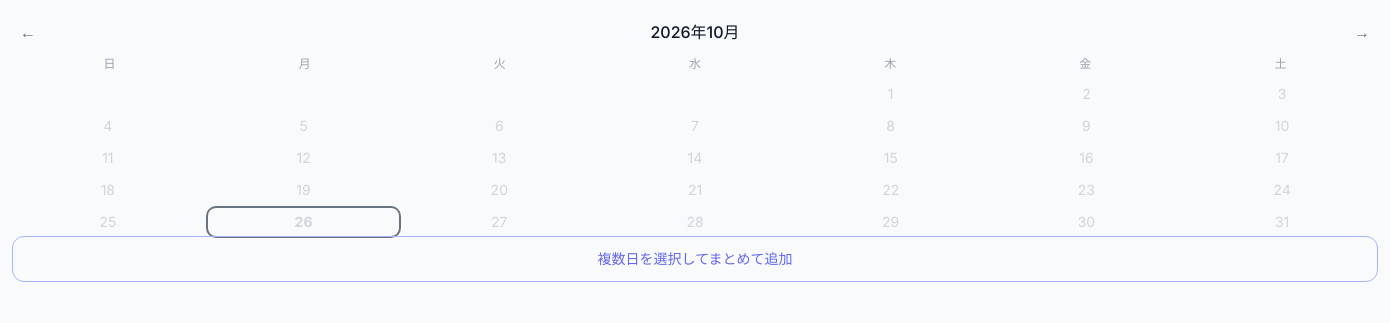
Scenario: CalendarView 複数日選択 › 同じ日をもう一度タップすると選択が外れる
This screenshot has width=1390, height=323.
Click the button "複数日を選択してまとめて追加" at (695, 259), box [12, 236, 1378, 282]
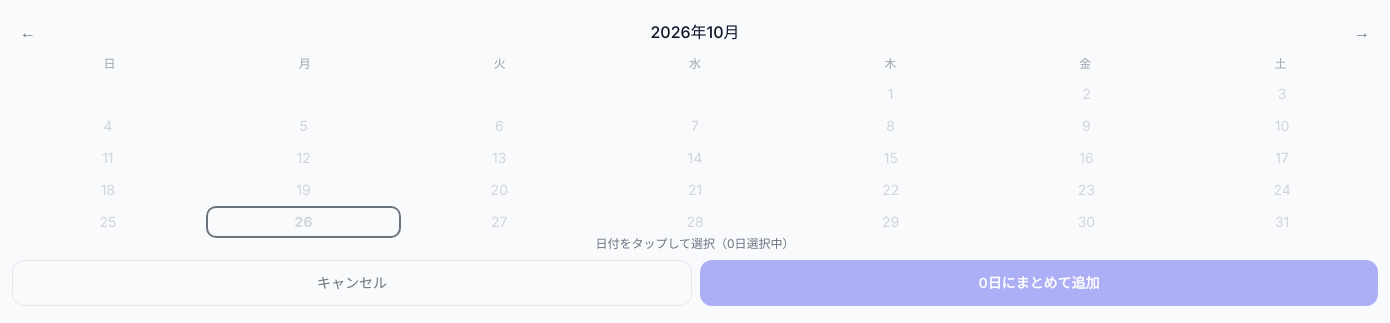
Click the element with test id "day-2026-10-05" at (304, 126), box [299, 117, 308, 134]
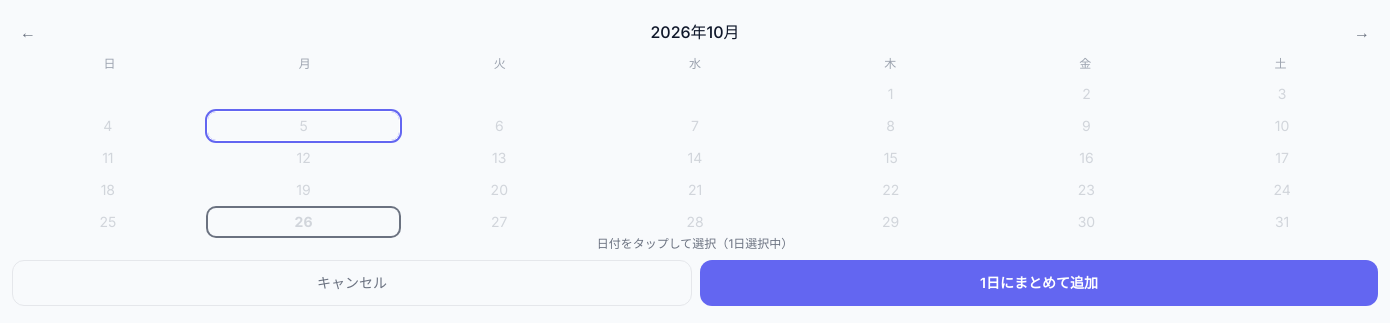
Click the element with test id "day-2026-10-05" at (304, 126), box [208, 112, 399, 140]
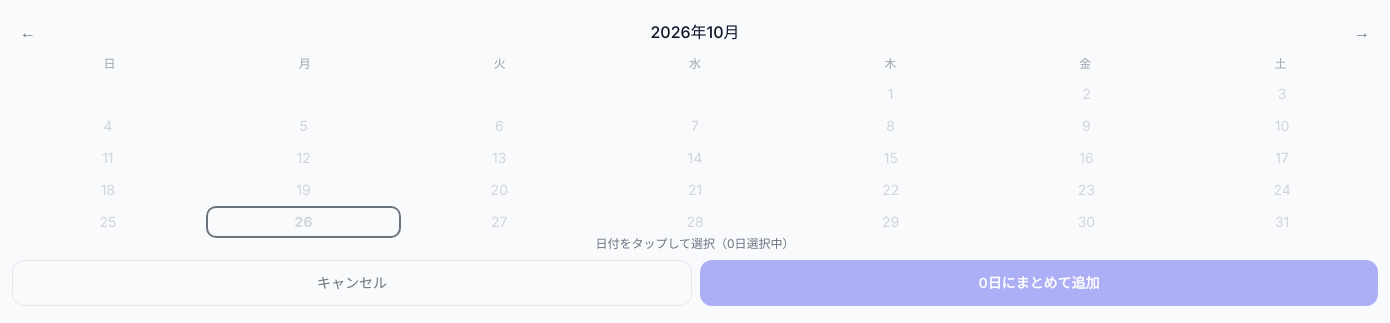
Check: the button "0日にまとめて追加" is disabled, box [700, 260, 1378, 306]
